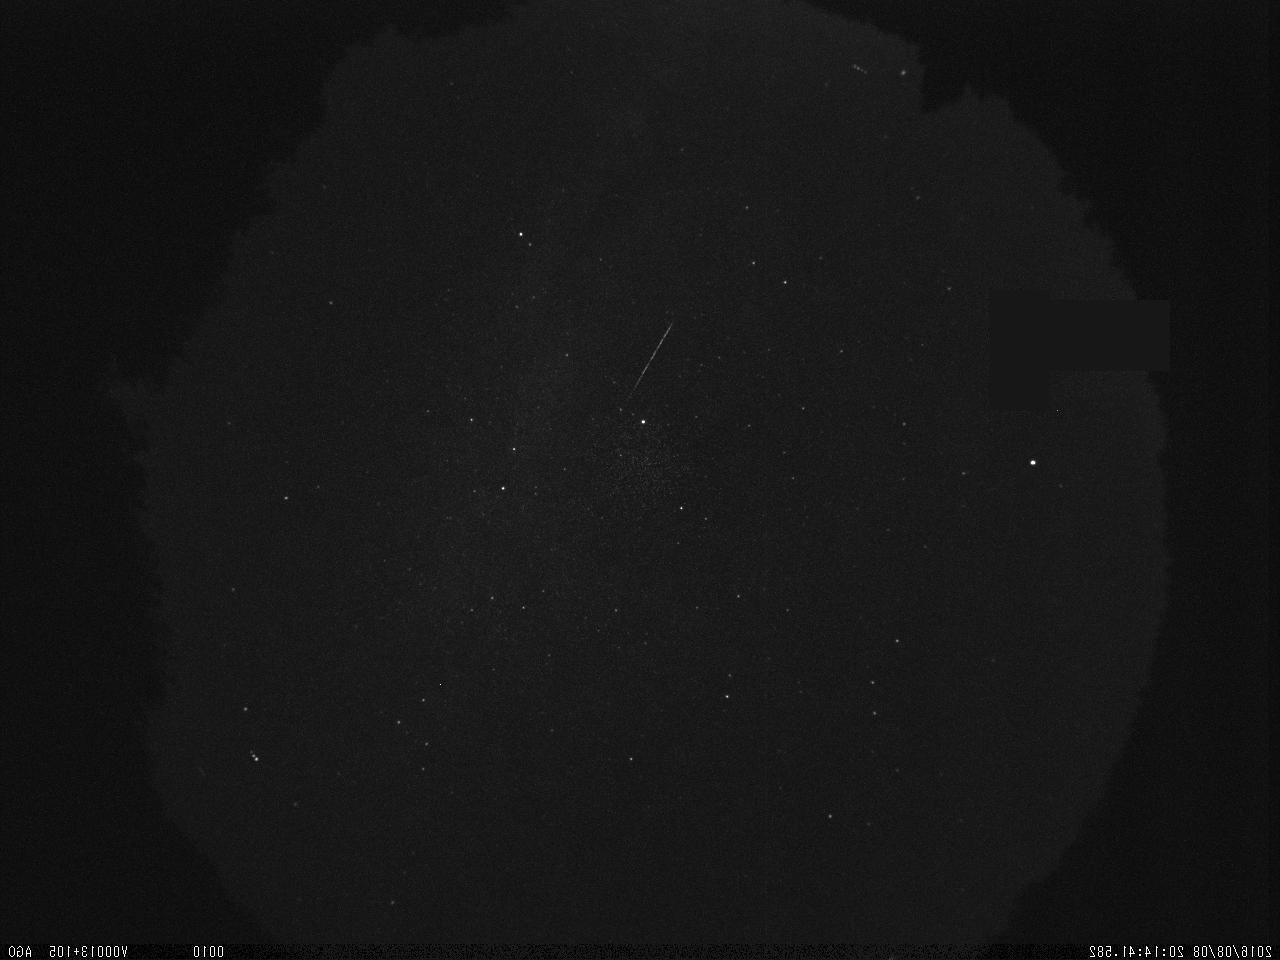meteor: (614, 314, 685, 408)
